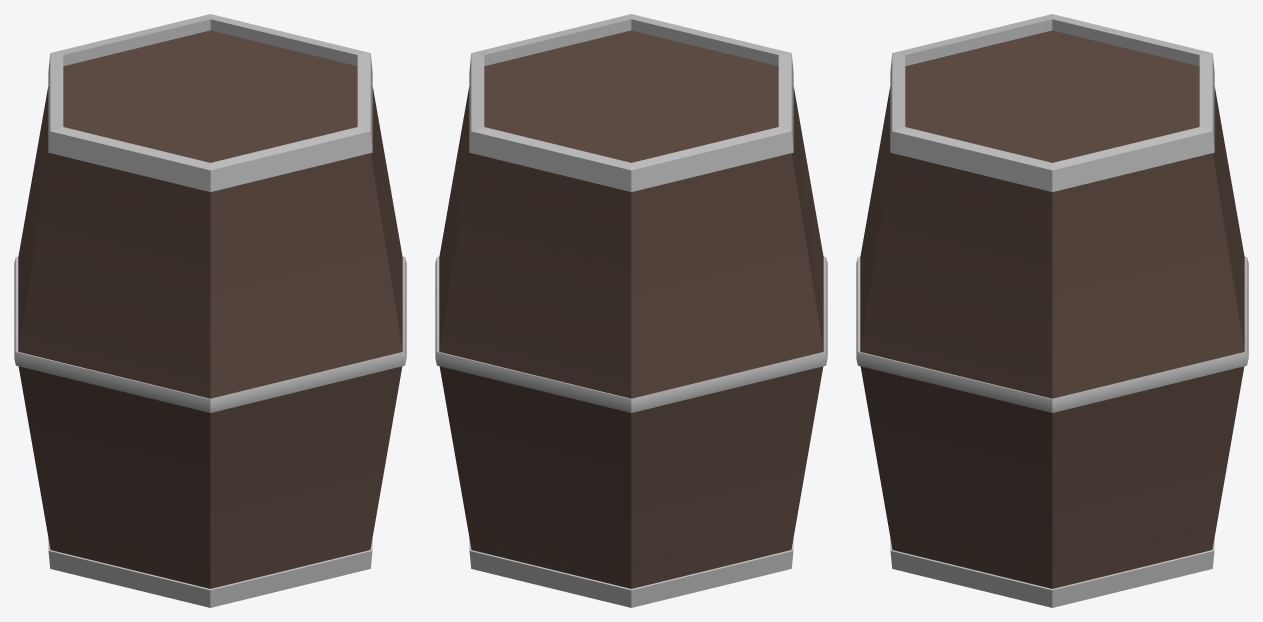
Rendered from PB_Barrel.fbx.
3 renders of one model, left to right at view 1: azimuth 30°, elevation 25°; view 2: azimuth 150°, elevation 25°; view 3: azimuth 270°, elevation 25°, orthographic.
Visible parts, largest first — view 1: PB_Barrel; view 2: PB_Barrel; view 3: PB_Barrel.
Part boxes in pixels (x1,y1,x2,y2): PB_Barrel: (14, 14, 406, 607); PB_Barrel: (435, 14, 827, 607); PB_Barrel: (856, 14, 1248, 607).
Size of the model in its own units: 92.56 by 99.2 by 80.16.
